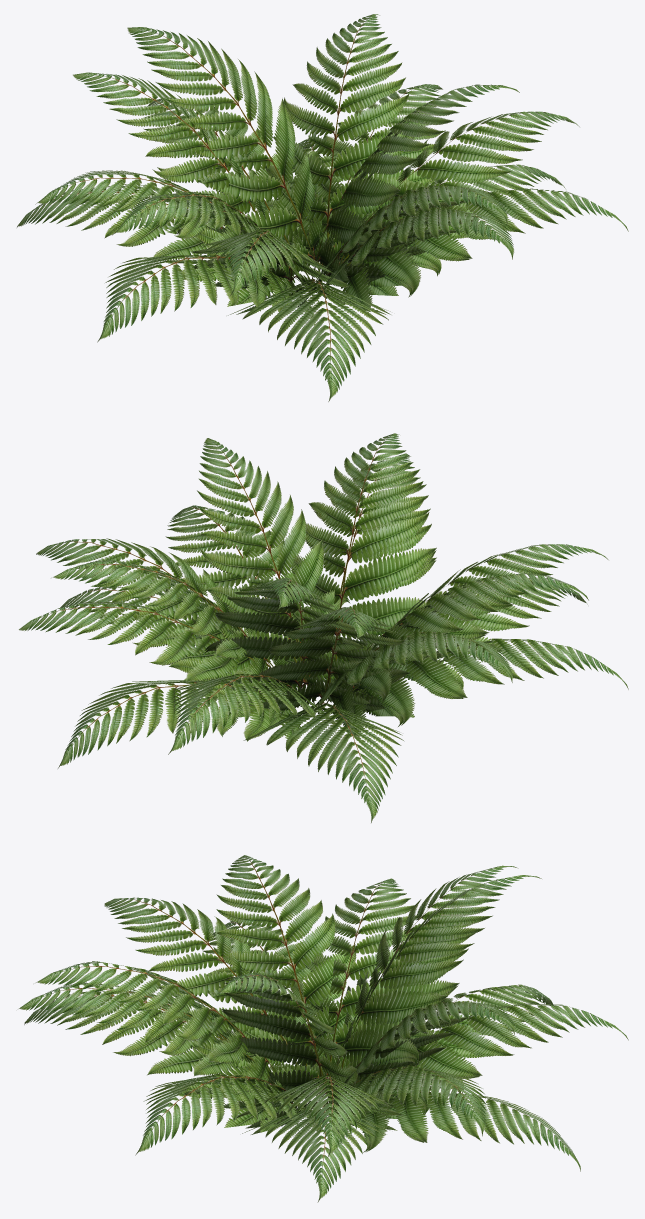
File: fern_5.glb
3 views of the same model, one above another, from view 1: azimuth 30°, elevation 25°; view 2: azimuth 150°, elevation 25°; view 3: azimuth 270°, elevation 25° (orthographic).
Visible parts, largest first — view 1: SM_MZRa_Fern_B0522_MI_MZRa_Fern_B052_0; view 2: SM_MZRa_Fern_B0522_MI_MZRa_Fern_B052_0; view 3: SM_MZRa_Fern_B0522_MI_MZRa_Fern_B052_0.
Boxes of the visible parts, x1,y1,x2,y2 form: SM_MZRa_Fern_B0522_MI_MZRa_Fern_B052_0: [17, 14, 628, 401]; SM_MZRa_Fern_B0522_MI_MZRa_Fern_B052_0: [19, 433, 628, 822]; SM_MZRa_Fern_B0522_MI_MZRa_Fern_B052_0: [19, 855, 628, 1202].
Bounding box in the file's own units: 1.94 × 0.7132 × 1.91.
1 material, 1 textured.
